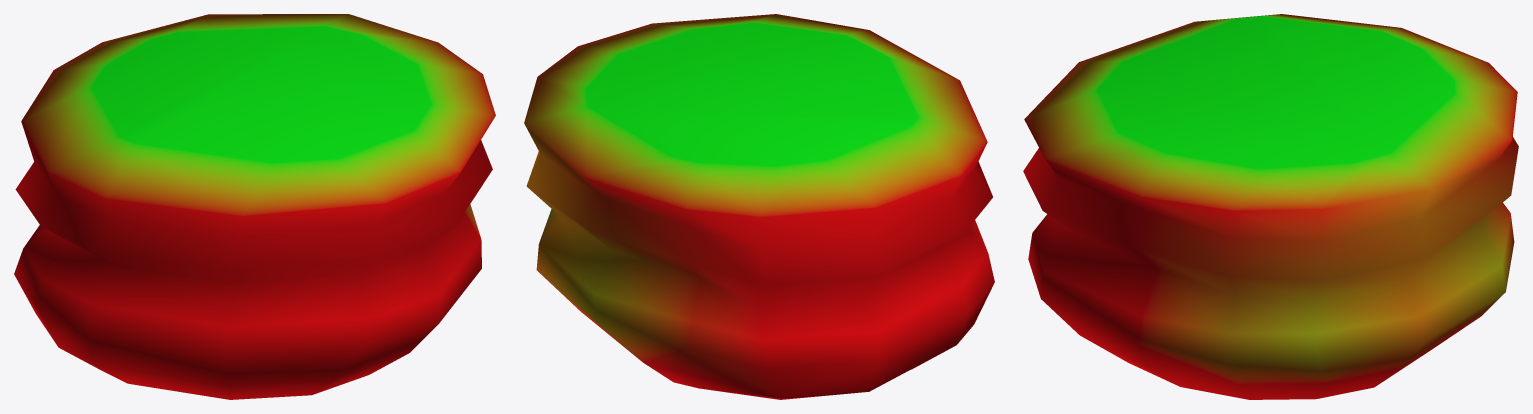
File: Sunken Tomb Flat Rock.fbx
3 views of the same model, side by side, from view 1: azimuth 30°, elevation 25°; view 2: azimuth 150°, elevation 25°; view 3: azimuth 270°, elevation 25° (orthographic). The views are drawn at different scales.
Parts seen in each view (by area): view 1: Flat Rock; view 2: Flat Rock; view 3: Flat Rock.
Boxes of the visible parts, <box> form: Flat Rock: <box>14,14,495,399</box>; Flat Rock: <box>524,14,994,399</box>; Flat Rock: <box>1023,14,1518,399</box>.
Bounding box in the file's own units: 707 × 382 × 686.
